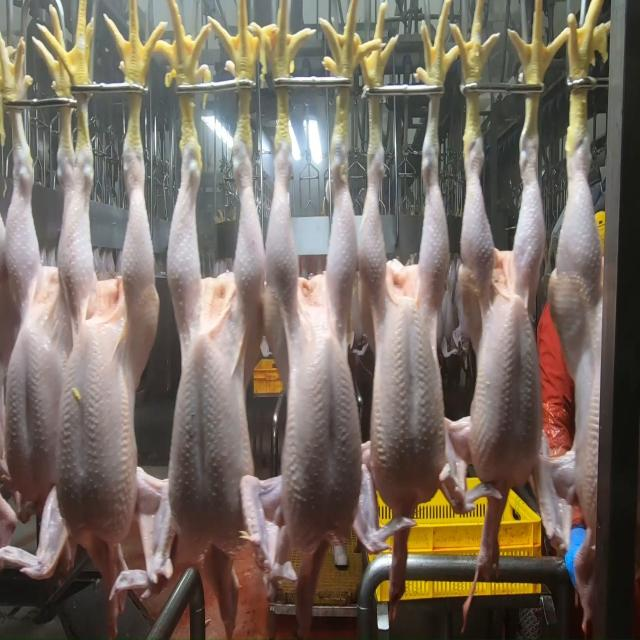chicken: (160, 136, 268, 540), (55, 125, 157, 551), (261, 142, 359, 540), (355, 134, 455, 515), (458, 116, 552, 499), (0, 105, 79, 506), (552, 122, 612, 527)
